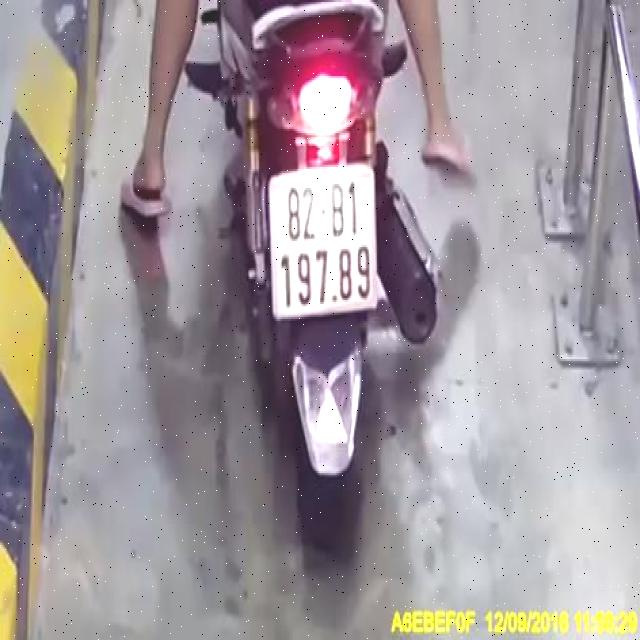1: (278, 249, 293, 313), (348, 178, 358, 239)
2: (302, 181, 318, 241)
7: (313, 245, 330, 303)
8: (285, 186, 303, 243), (337, 246, 352, 300)
9: (354, 242, 373, 302), (296, 250, 313, 306)
B: (328, 180, 346, 240)
